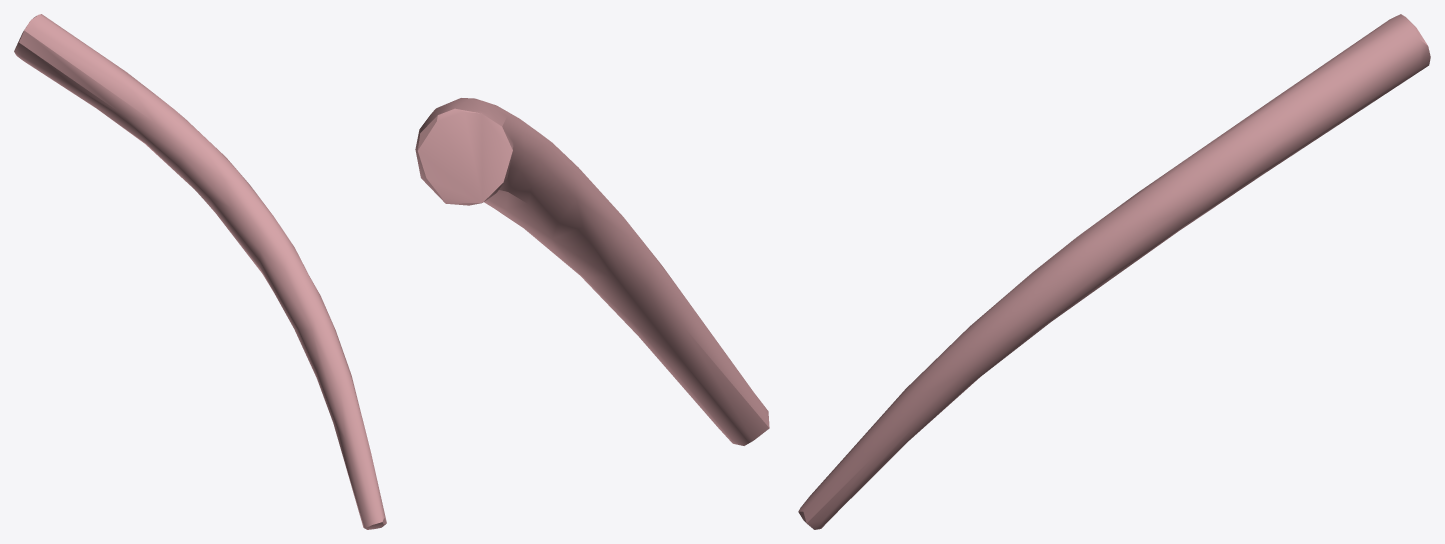
Rendered from fma68231_fj2536.glb.
The picture shows the model from 3 angles, left to right: view 1: azimuth 30°, elevation 25°; view 2: azimuth 150°, elevation 25°; view 3: azimuth 270°, elevation 25°; orthographic projection. The views are drawn at different scales.
Visible parts, largest first — view 1: FMA68231_FJ2536; view 2: FMA68231_FJ2536; view 3: FMA68231_FJ2536.
Part boxes in pixels (x1,y1,x2,y2): FMA68231_FJ2536: (14,14,386,529); FMA68231_FJ2536: (415,98,769,445); FMA68231_FJ2536: (798,14,1430,529).
Bounding box in the file's own units: 0.0168 × 0.0405 × 0.0514.
